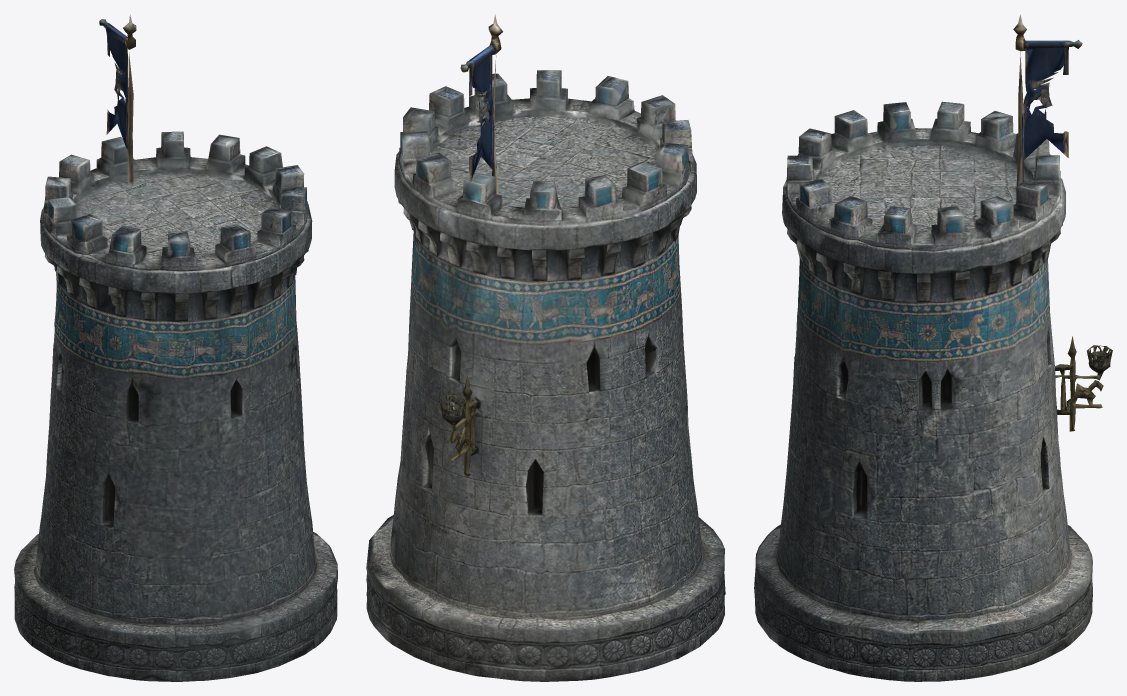
File: castle_tower_stone_1.glb
The picture shows the model from 3 angles, left to right: view 1: azimuth 30°, elevation 25°; view 2: azimuth 150°, elevation 25°; view 3: azimuth 270°, elevation 25°; orthographic projection. The views are drawn at different scales.
Visible parts, largest first — view 1: tripo_node_b5eb4660-af47-46a6-9a21-5abfa217048b; view 2: tripo_node_b5eb4660-af47-46a6-9a21-5abfa217048b; view 3: tripo_node_b5eb4660-af47-46a6-9a21-5abfa217048b.
Part boxes in pixels (bbox=[...]): tripo_node_b5eb4660-af47-46a6-9a21-5abfa217048b: bbox=[14, 14, 337, 681]; tripo_node_b5eb4660-af47-46a6-9a21-5abfa217048b: bbox=[366, 14, 725, 681]; tripo_node_b5eb4660-af47-46a6-9a21-5abfa217048b: bbox=[754, 14, 1112, 681].
Bounding box in the file's own units: 0.5123 × 0.9827 × 0.5356.
1 material, 1 textured.
